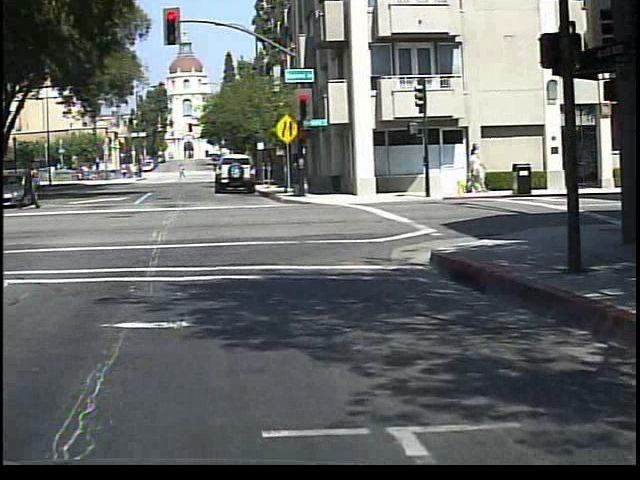person: (7, 168, 34, 222), (19, 164, 42, 208), (180, 163, 190, 180)
